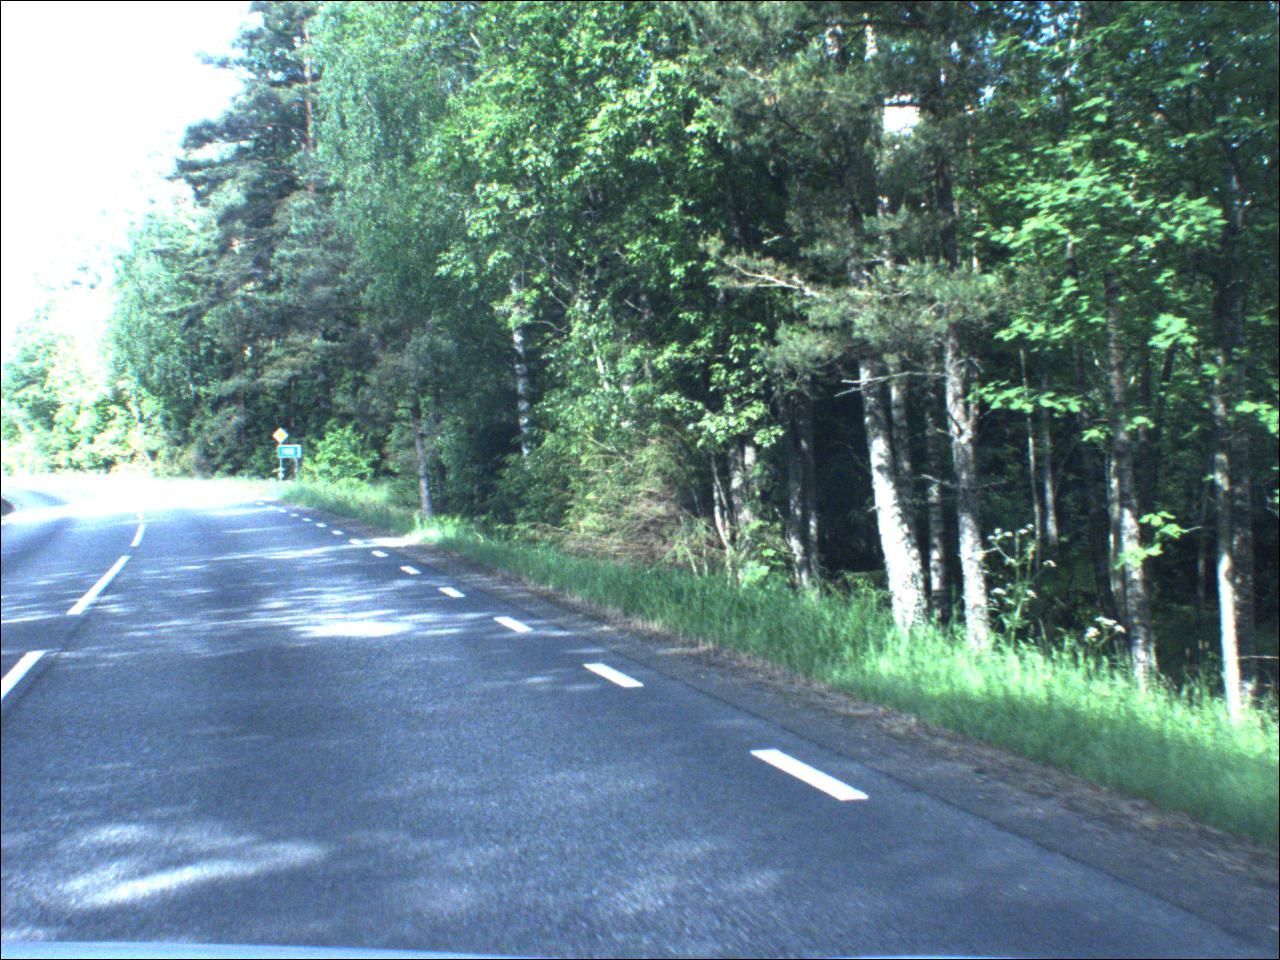PRIORITY_ROAD: (273, 428, 291, 447)
